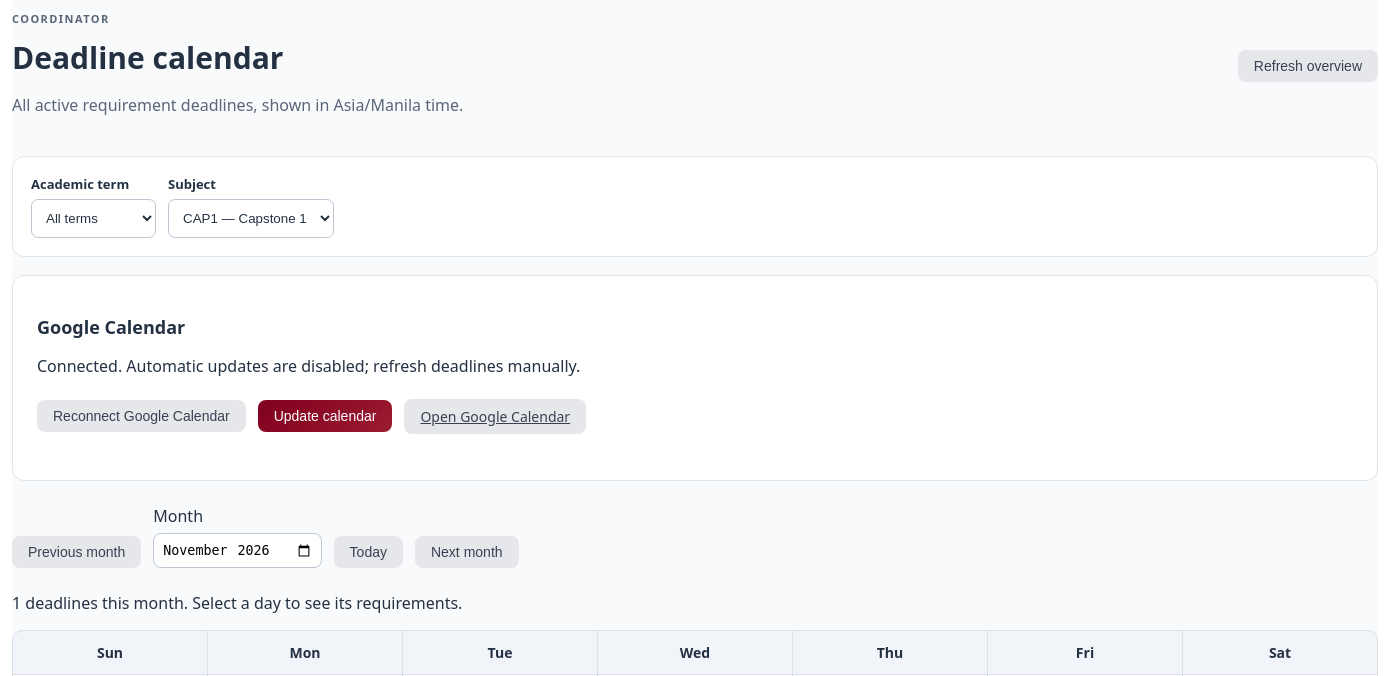
calendar sync sends the complete catalog request even when the view is filtered
This screenshot has width=1390, height=676.
Click the button "Update calendar": (325,416) [258,400,392,432]
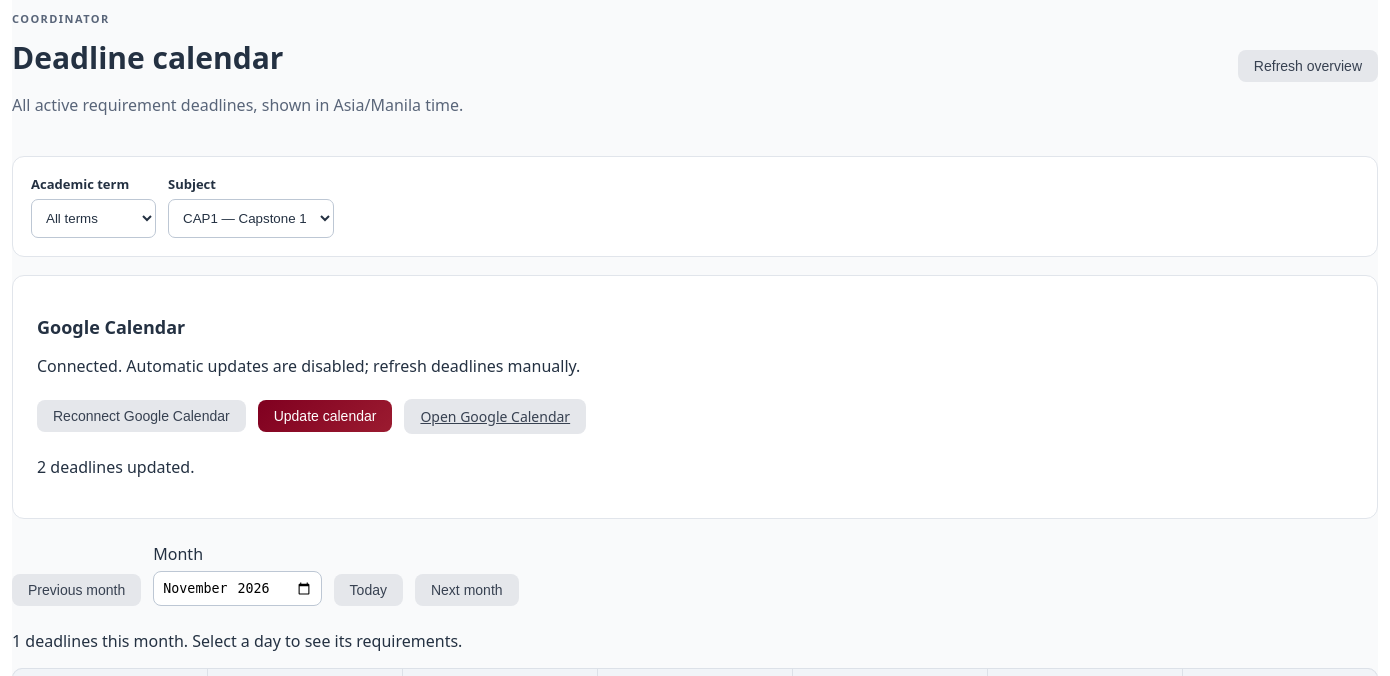
expect the link to "https://calendar.google.com/" is shown: met, box [404,399,586,434]
expect the text "2 deadlines updated" is shown: met, box [37,456,194,478]
